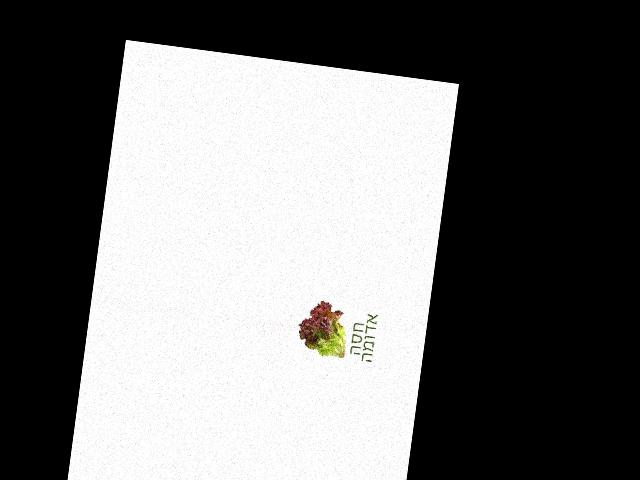lettuce: (294, 296, 353, 364)
